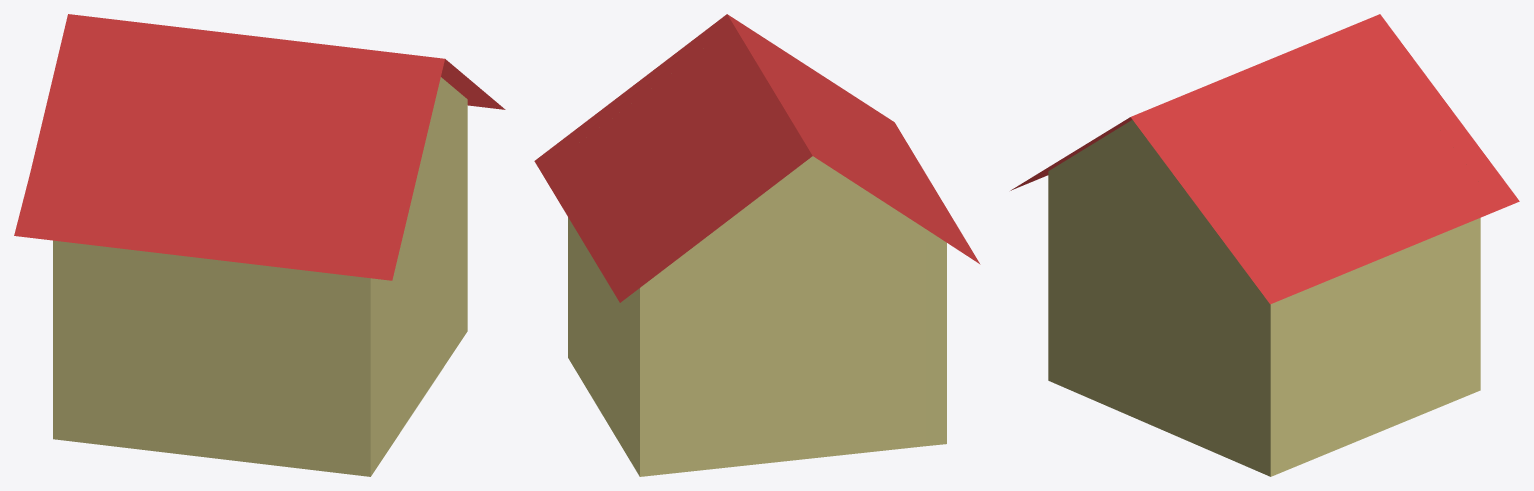
The picture shows the model from 3 angles, left to right: view 1: azimuth 30°, elevation 25°; view 2: azimuth 150°, elevation 25°; view 3: azimuth 270°, elevation 25°; orthographic projection. The views are drawn at different scales.
Bounding box in the file's own units: 18.47 × 18.43 × 12.58.
